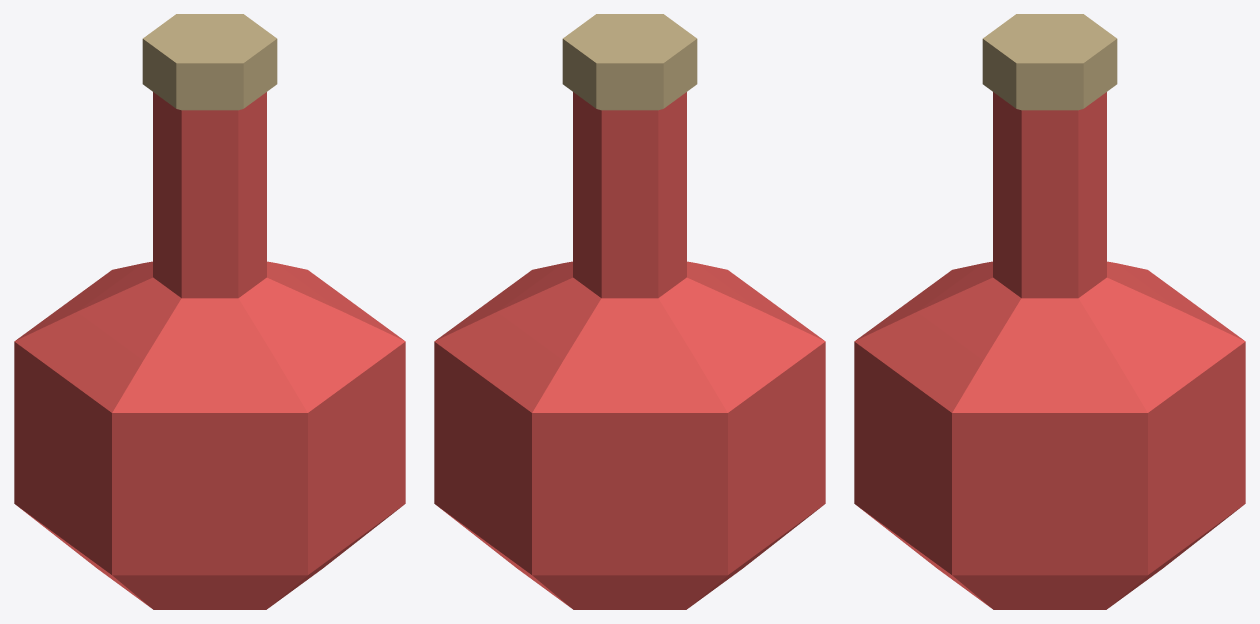
File: Potion_14.fbx
3 renders of one model, left to right at view 1: azimuth 30°, elevation 25°; view 2: azimuth 150°, elevation 25°; view 3: azimuth 270°, elevation 25°, orthographic.
Parts seen in each view (by area): view 1: Potion_14; view 2: Potion_14; view 3: Potion_14.
Boxes of the visible parts, left/top/right/bottom form: Potion_14: left=14, top=14, right=405, bottom=609; Potion_14: left=434, top=14, right=825, bottom=609; Potion_14: left=854, top=14, right=1245, bottom=609.
Bounding box in the file's own units: 11 × 18.98 × 12.7.
